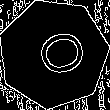O_W: (22, 25, 85, 82)
